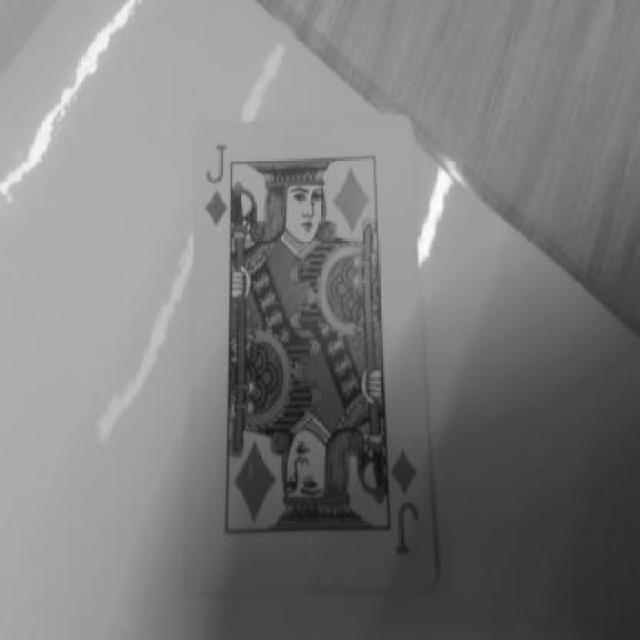JD: (375, 397, 428, 568), (190, 116, 242, 247)
